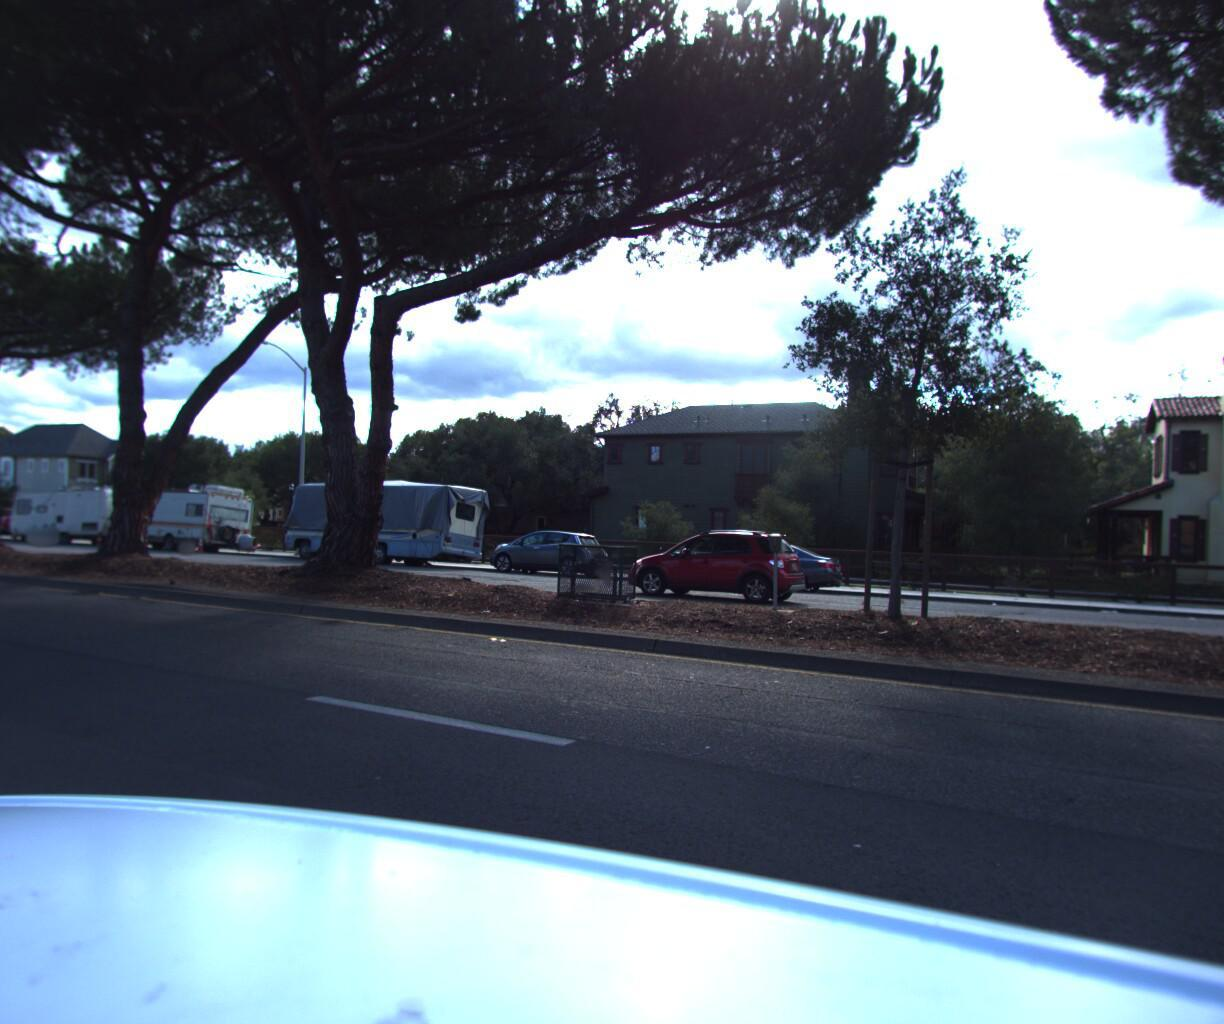car: (614, 517, 817, 601), (671, 532, 850, 592), (478, 520, 618, 576)
other_vehicle: (276, 471, 493, 569), (109, 477, 258, 548)
